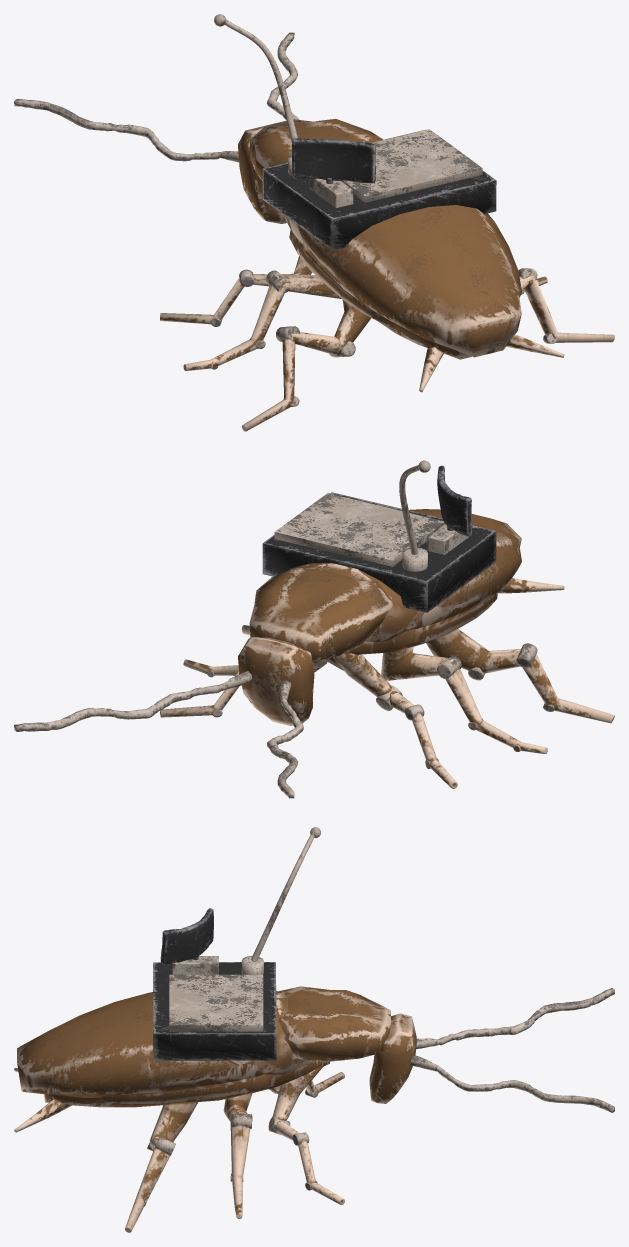
Rendered from RoboTarakan.glb.
The picture shows the model from 3 angles, top to bottom: view 1: azimuth 30°, elevation 25°; view 2: azimuth 150°, elevation 25°; view 3: azimuth 270°, elevation 25°; orthographic projection. The views are drawn at different scales.
Visible parts, largest first — view 1: Tarakan_robo_low; view 2: Tarakan_robo_low; view 3: Tarakan_robo_low.
Part boxes in pixels (<box>): Tarakan_robo_low: <box>14,14,614,431</box>; Tarakan_robo_low: <box>14,460,614,798</box>; Tarakan_robo_low: <box>14,827,614,1232</box>.
Size of the model in its own units: 0.1258 by 0.1035 by 0.1998.
Materials: 1 (1 with a texture image).
